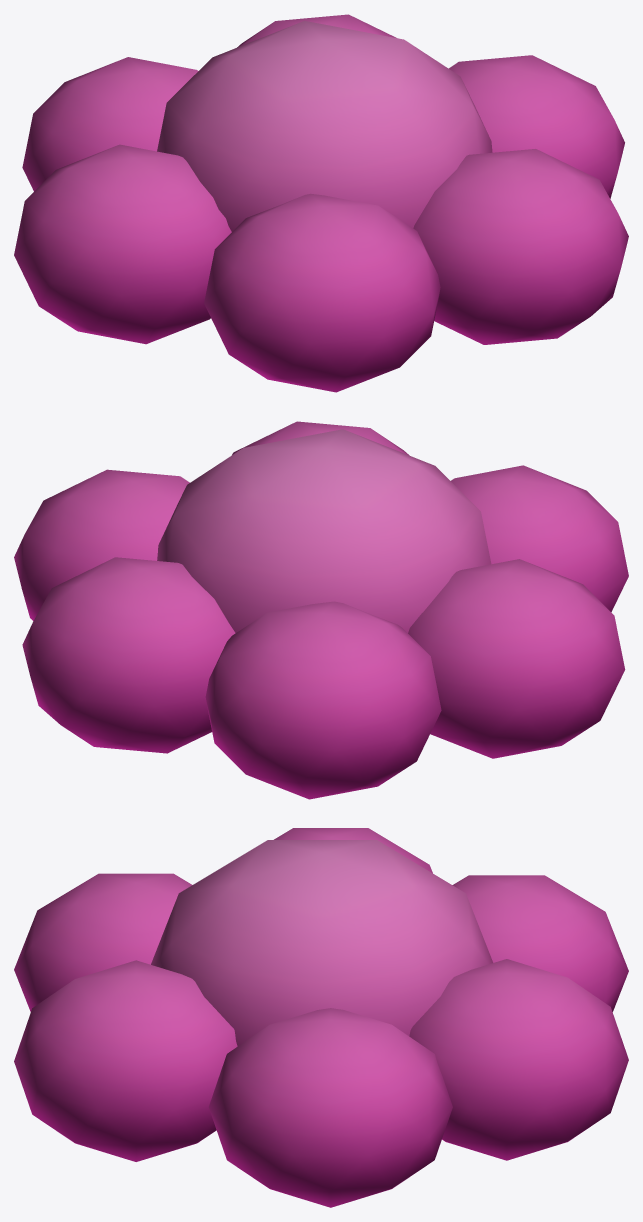
File: Cupcake_top_03.002.fbx
3 views of the same model, one above another, from view 1: azimuth 30°, elevation 25°; view 2: azimuth 150°, elevation 25°; view 3: azimuth 270°, elevation 25° (orthographic).
Visible parts, largest first — view 1: Cupcake_top_03.002; view 2: Cupcake_top_03.002; view 3: Cupcake_top_03.002.
Boxes of the visible parts, x1,y1,x2,y2 form: Cupcake_top_03.002: (14, 14, 628, 392); Cupcake_top_03.002: (14, 421, 628, 799); Cupcake_top_03.002: (14, 828, 628, 1207).
Bounding box in the file's own units: 84 × 77.64 × 32.88.
